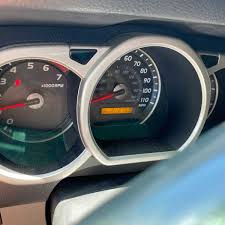Digital_Meter: (98, 103, 138, 119)
